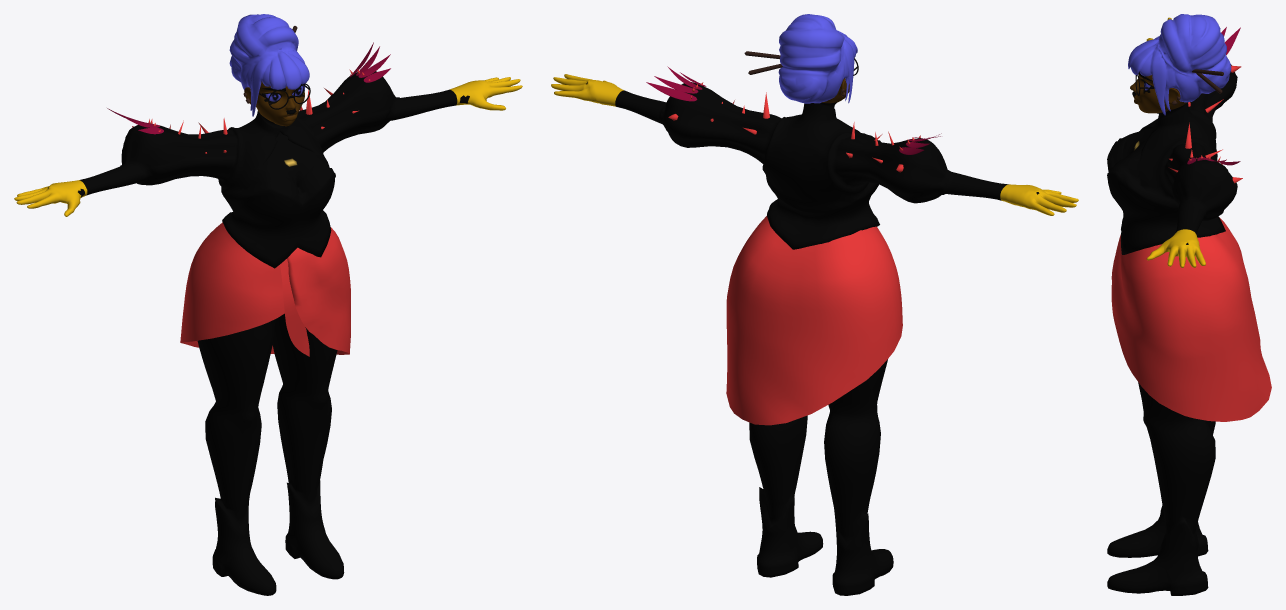
File: SM_Aby_Low.fbx
3 renders of one model, left to right at view 1: azimuth 30°, elevation 25°; view 2: azimuth 150°, elevation 25°; view 3: azimuth 270°, elevation 25°, orthographic. The views are drawn at different scales.
Parts seen in each view (by area): view 1: SM_Aby_Low; view 2: SM_Aby_Low; view 3: SM_Aby_Low.
Part boxes in pixels (<box>): SM_Aby_Low: <box>14,14,522,595</box>; SM_Aby_Low: <box>551,14,1078,595</box>; SM_Aby_Low: <box>1107,14,1271,595</box>.
Bounding box in the file's own units: 1.44 × 1.48 × 0.3981.
